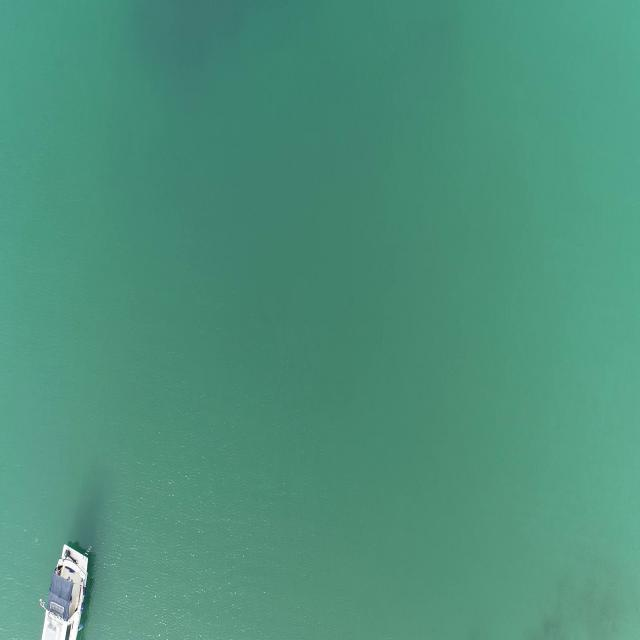boat: (36, 540, 94, 640)
